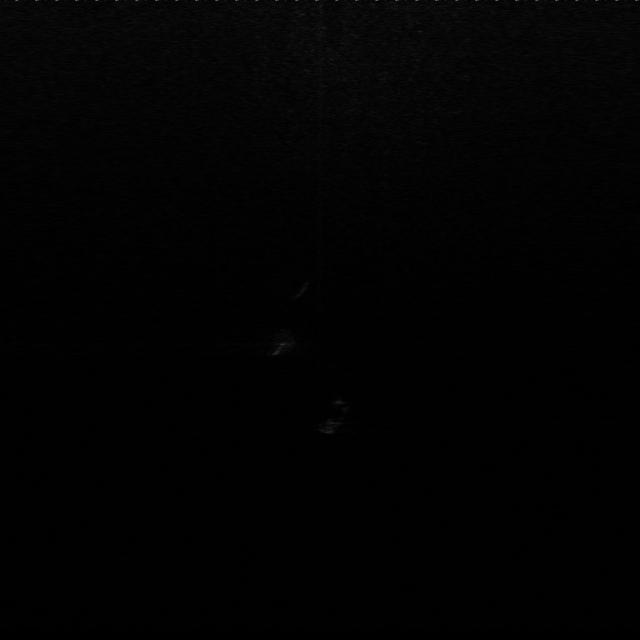circle cage: (263, 330, 297, 360)
tyre: (310, 395, 356, 438)
